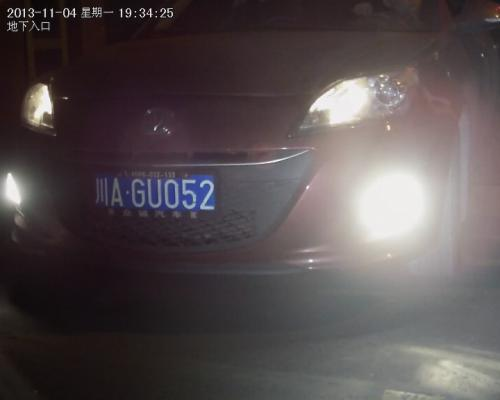Carplate: (90, 168, 220, 220)
